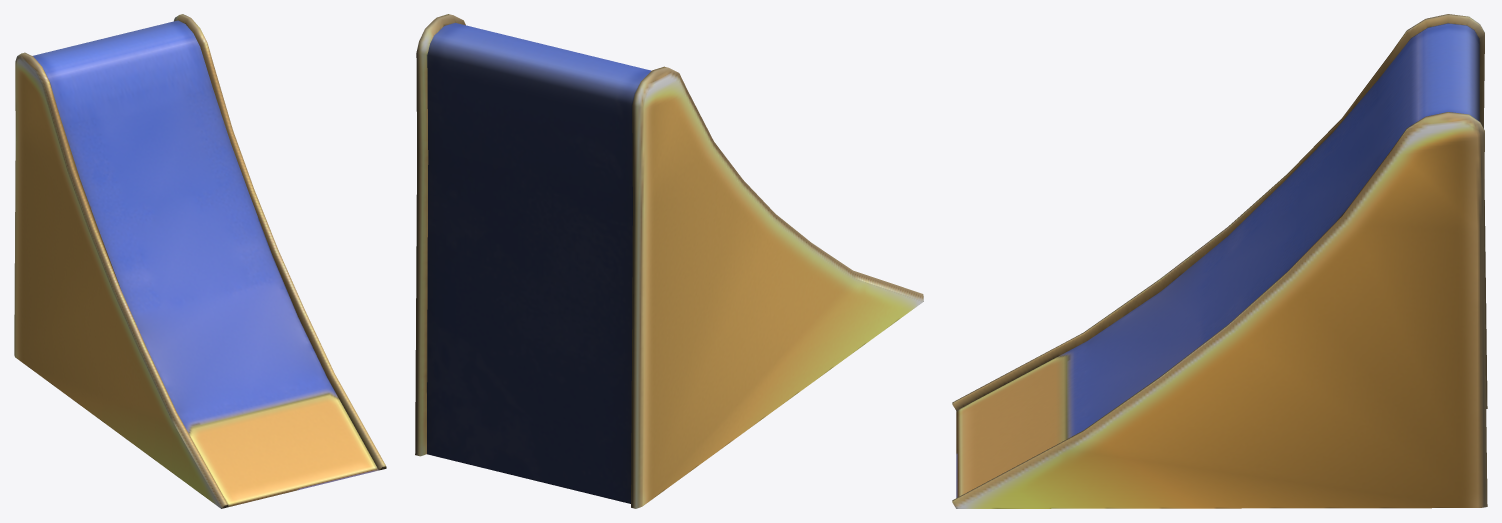
Rendered from slider_low.fbx.
3 renders of one model, left to right at view 1: azimuth 30°, elevation 25°; view 2: azimuth 150°, elevation 25°; view 3: azimuth 270°, elevation 25°, orthographic. The views are drawn at different scales.
Visible parts, largest first — view 1: slider_low; view 2: slider_low; view 3: slider_low.
Part boxes in pixels (x1,y1,x2,y2): slider_low: [14, 14, 386, 508]; slider_low: [415, 14, 923, 508]; slider_low: [952, 14, 1487, 508].
Bounding box in the file's own units: 150 × 269 × 331.
